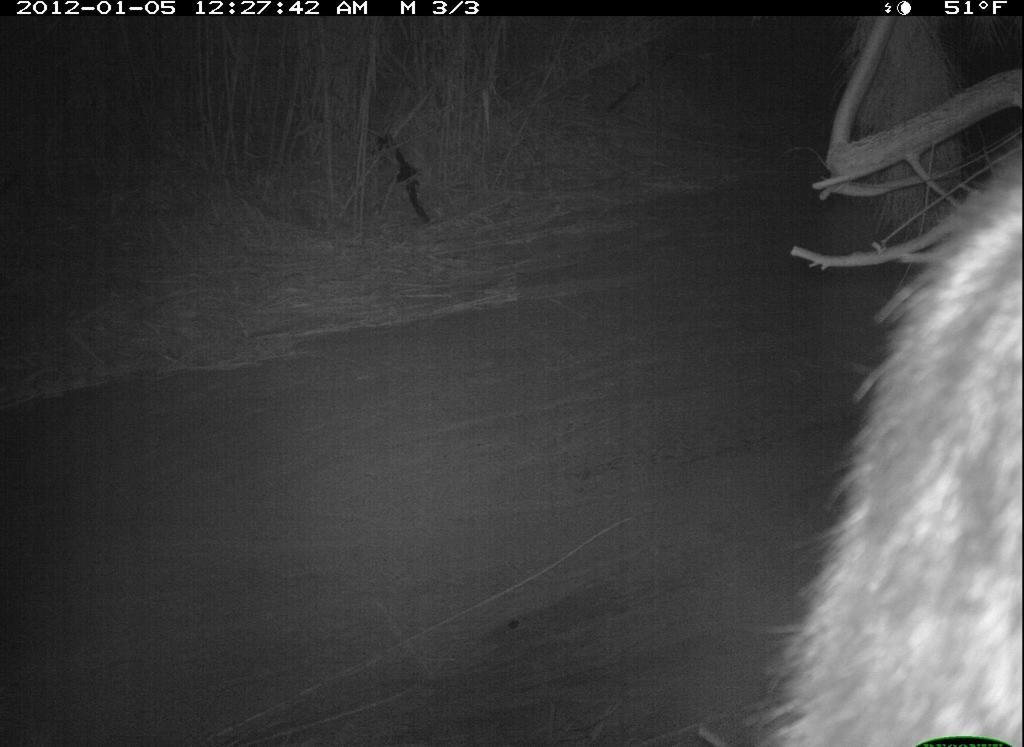raccoon: (753, 129, 1023, 747)
